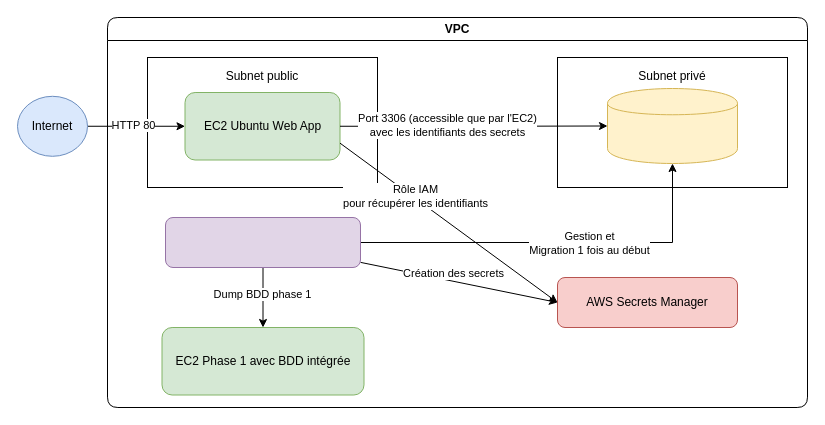
The diagram is 825 pixels wide and 425 high, and some of its shapes have lost their labels. The centre of each missing label's shape, as x and y in pixels:
"Amazon RDS MySQL" goes at [672,126].
"Cloud9 CLI" goes at [262,242].
